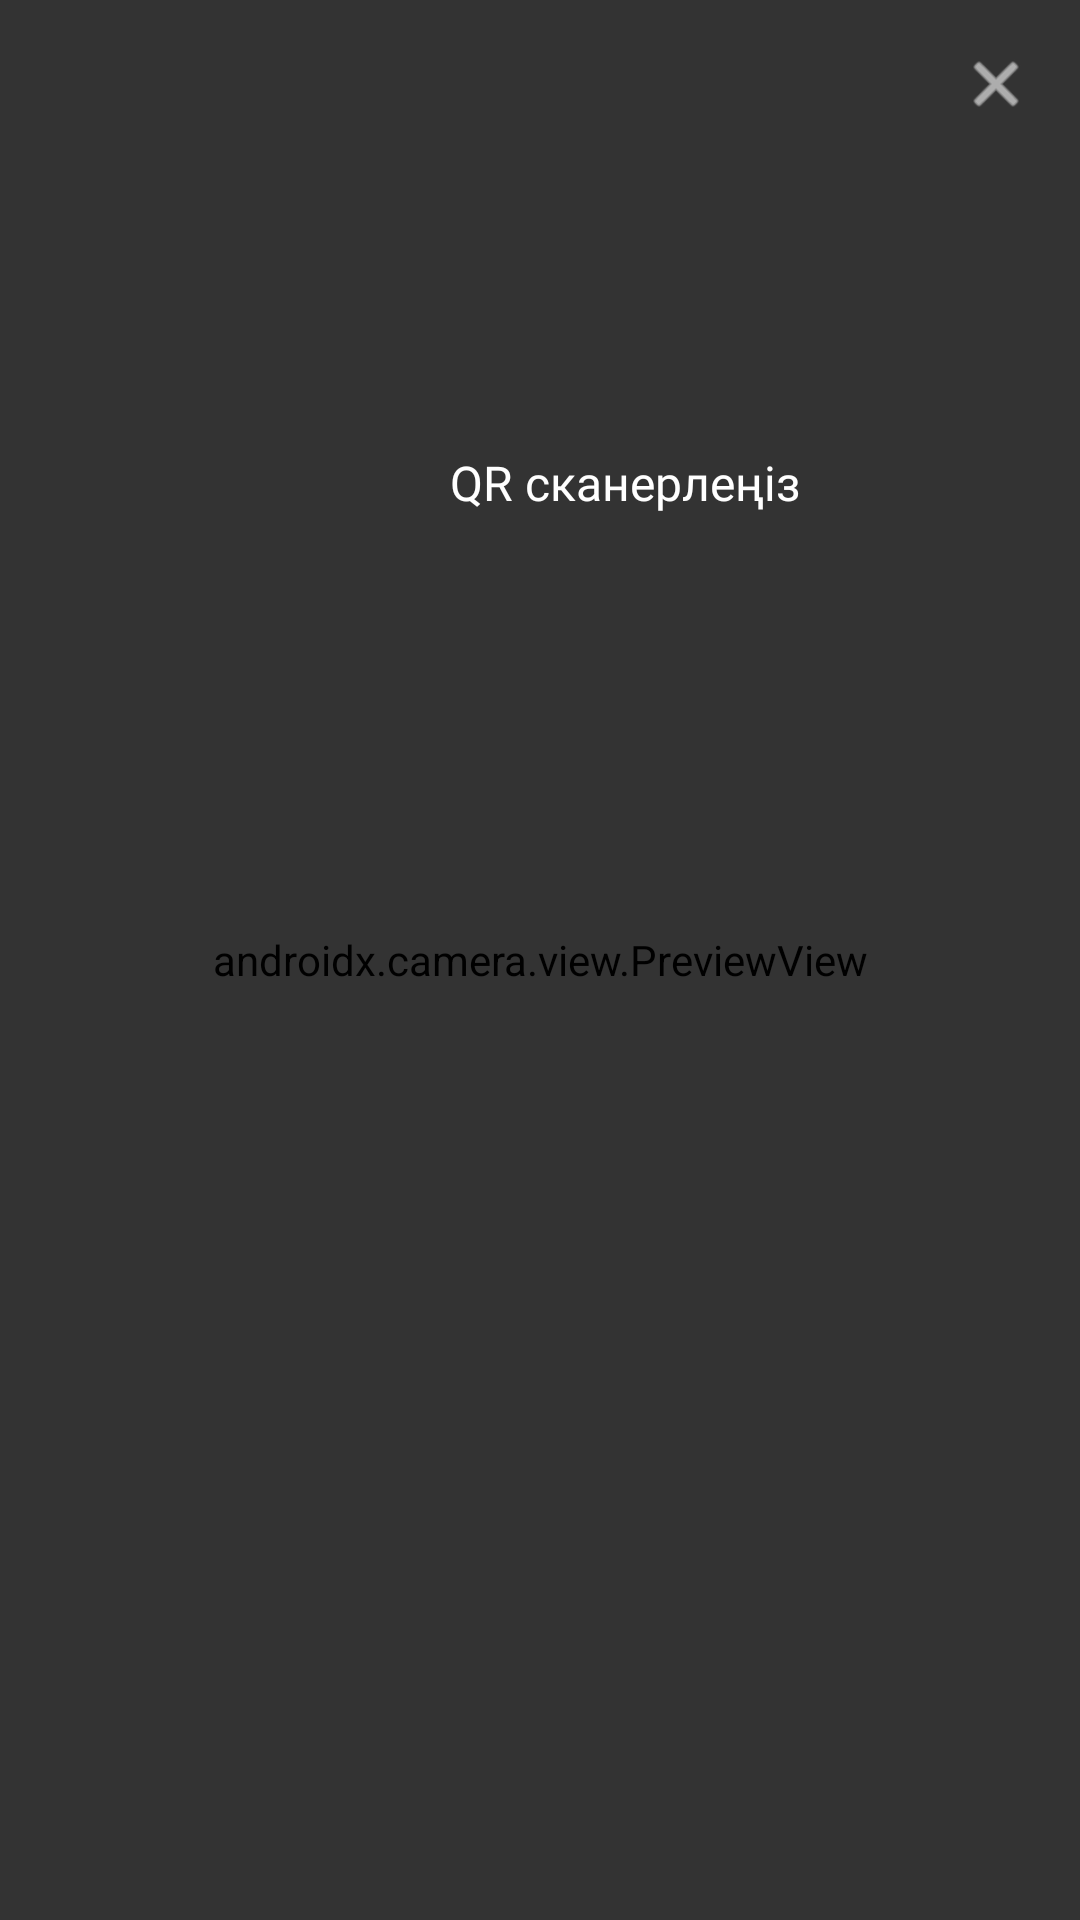

Icon bounding boxes for this 1080 x 1920 phone screenshot, format (x1, y1, x2, y2):
close clear cancel: (974, 61, 1018, 107)
